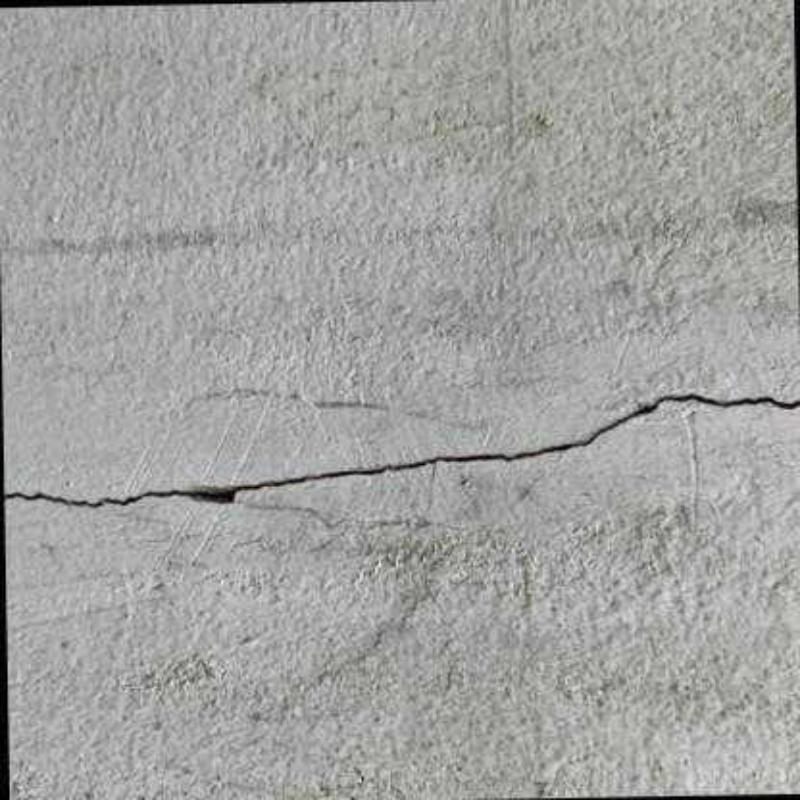crack: (2, 394, 800, 507)
